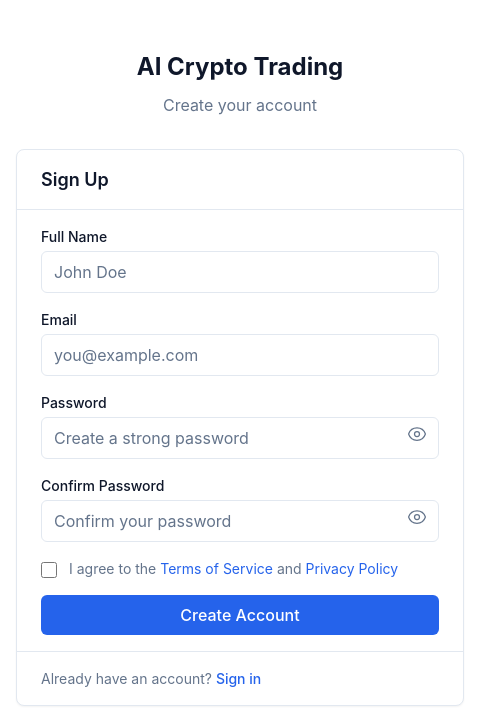
Test case: Signup Page › Error Display › should display API error
Type "Test User" into the field labelled "Full Name" at (240, 272), box [41,250,439,292]
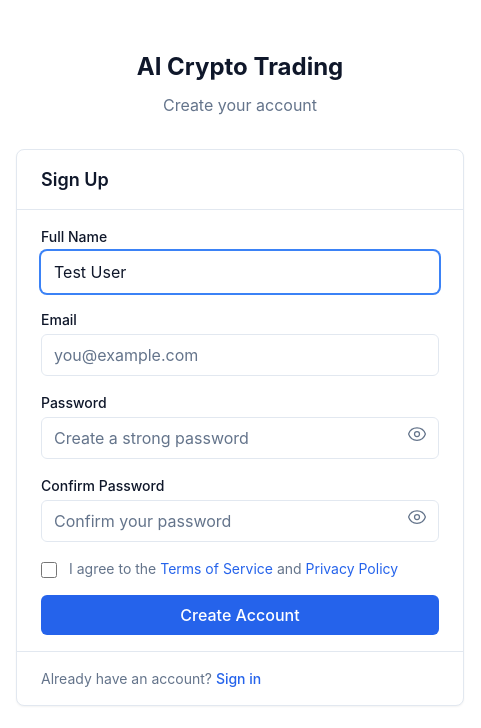
Type "test@example.com" into the field labelled "Email" at (240, 354), box [41,334,439,376]
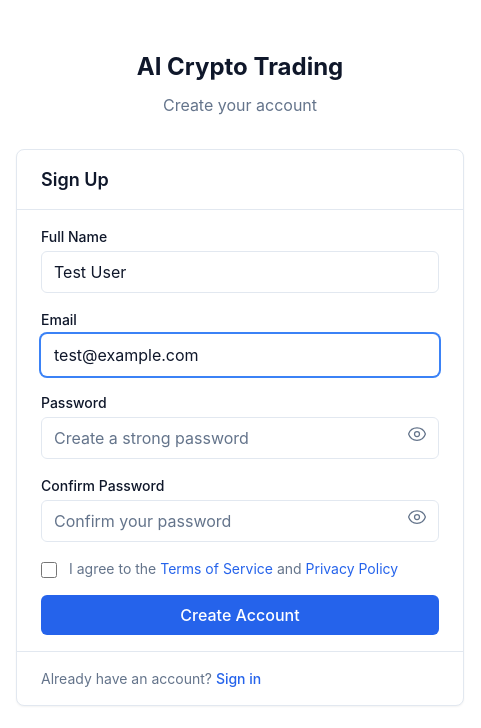
Type "StrongP@ss123!" into the password field labelled "Password" at (240, 438), box [41,416,439,458]
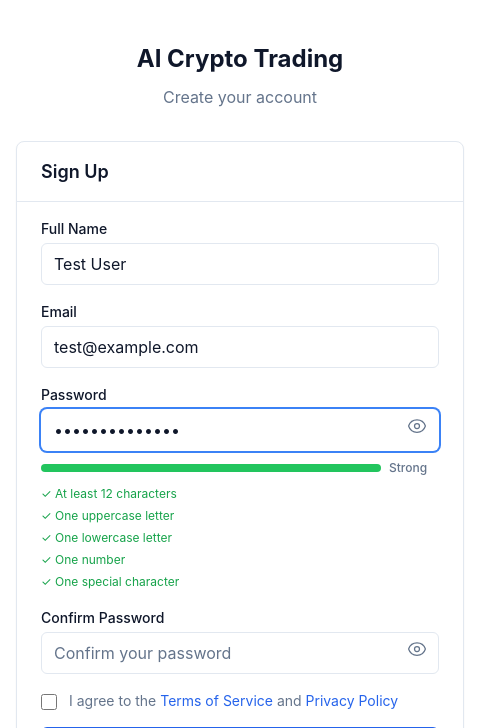
Type "StrongP@ss123!" into the password field with id "confirmPassword" at (240, 653), box [41,632,439,674]
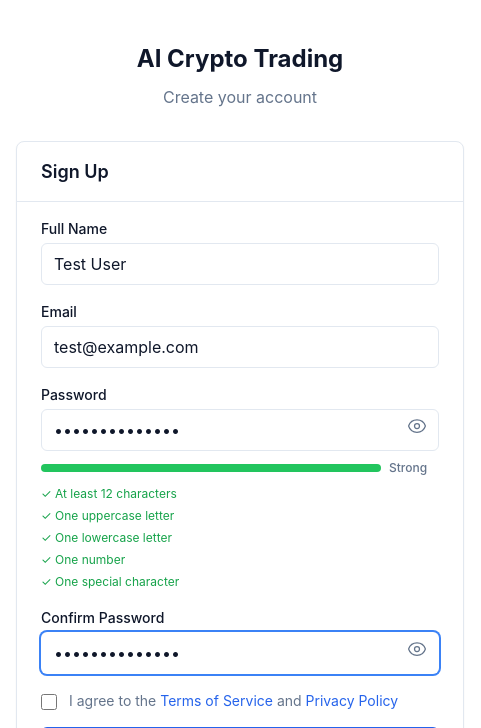
Click the checkbox at (49, 702), box [41,694,57,710]
(page scrolled)
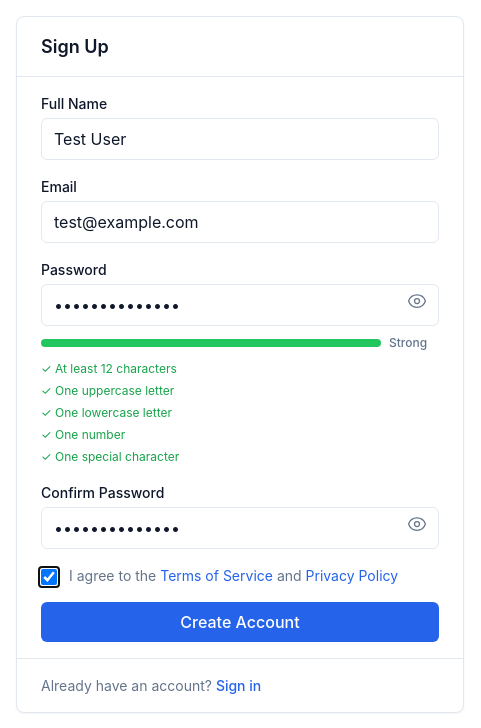
Click the button "Create Account" at (240, 622), box [41,602,439,642]
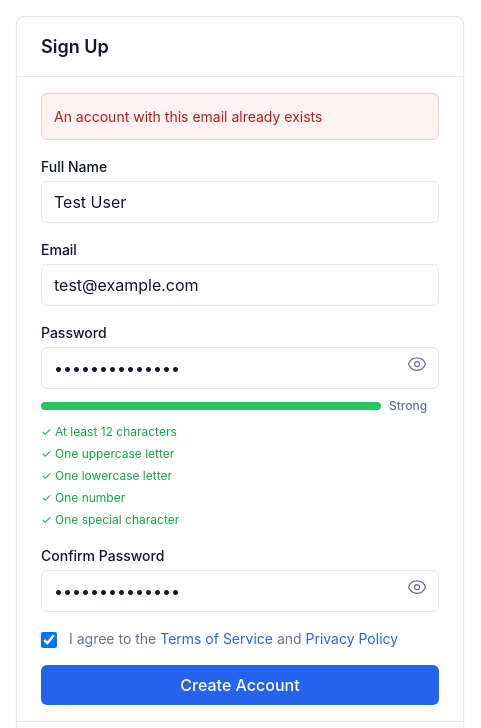
Result: the message reads "An account with this email already exists" at [54,108,322,125]
